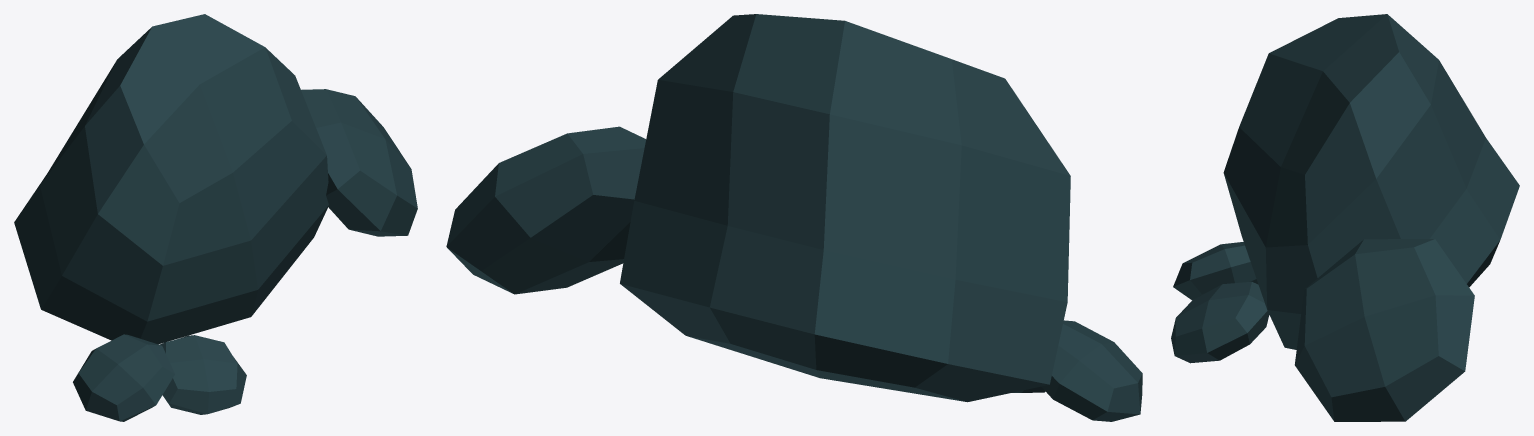
File: Piedracolor.fbx
3 views of the same model, side by side, from view 1: azimuth 30°, elevation 25°; view 2: azimuth 150°, elevation 25°; view 3: azimuth 270°, elevation 25° (orthographic). The views are drawn at different scales.
Parts seen in each view (by area): view 1: Piedracolor; view 2: Piedracolor; view 3: Piedracolor.
Boxes of the visible parts, x1,y1,x2,y2 form: Piedracolor: [14, 14, 417, 421]; Piedracolor: [446, 14, 1142, 421]; Piedracolor: [1171, 14, 1519, 421].
Size of the model in its own units: 16.64 by 11.27 by 12.7.
